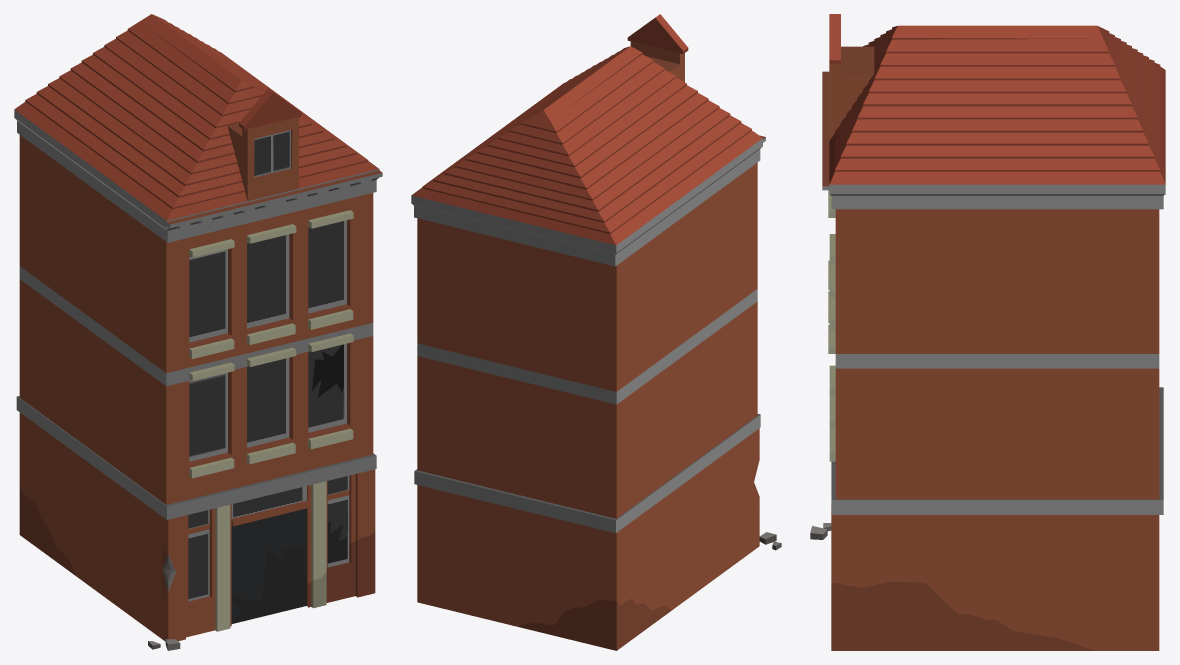
The model's file is SA_Bld_OfficeOld_02.gltf.
3 views of the same model, side by side, from view 1: azimuth 30°, elevation 25°; view 2: azimuth 150°, elevation 25°; view 3: azimuth 270°, elevation 25° (orthographic). The views are drawn at different scales.
Visible parts, largest first — view 1: SA_Bld_OfficeOld_02; view 2: SA_Bld_OfficeOld_02; view 3: SA_Bld_OfficeOld_02.
Part boxes in pixels (box(x1,y1,x2,y2)): SA_Bld_OfficeOld_02: box(14, 14, 382, 650); SA_Bld_OfficeOld_02: box(411, 14, 781, 650); SA_Bld_OfficeOld_02: box(810, 14, 1165, 650).
Bounding box in the file's own units: 9.19 × 20.16 × 11.17.
Materials: 1 (1 with a texture image).
